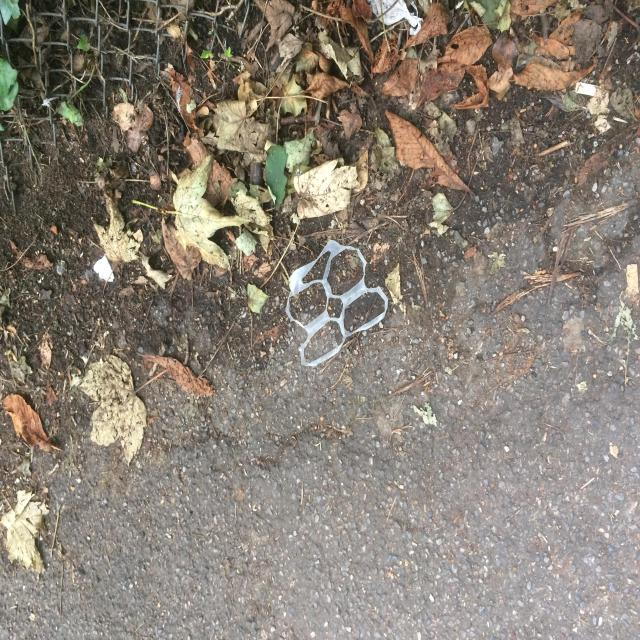Cigarette: (575, 82, 601, 96)
Six pack rings: (285, 240, 388, 367), (327, 249, 364, 296), (344, 292, 385, 333), (302, 250, 331, 284), (327, 298, 343, 318)
Unlabeled litter: (368, 0, 421, 35)
